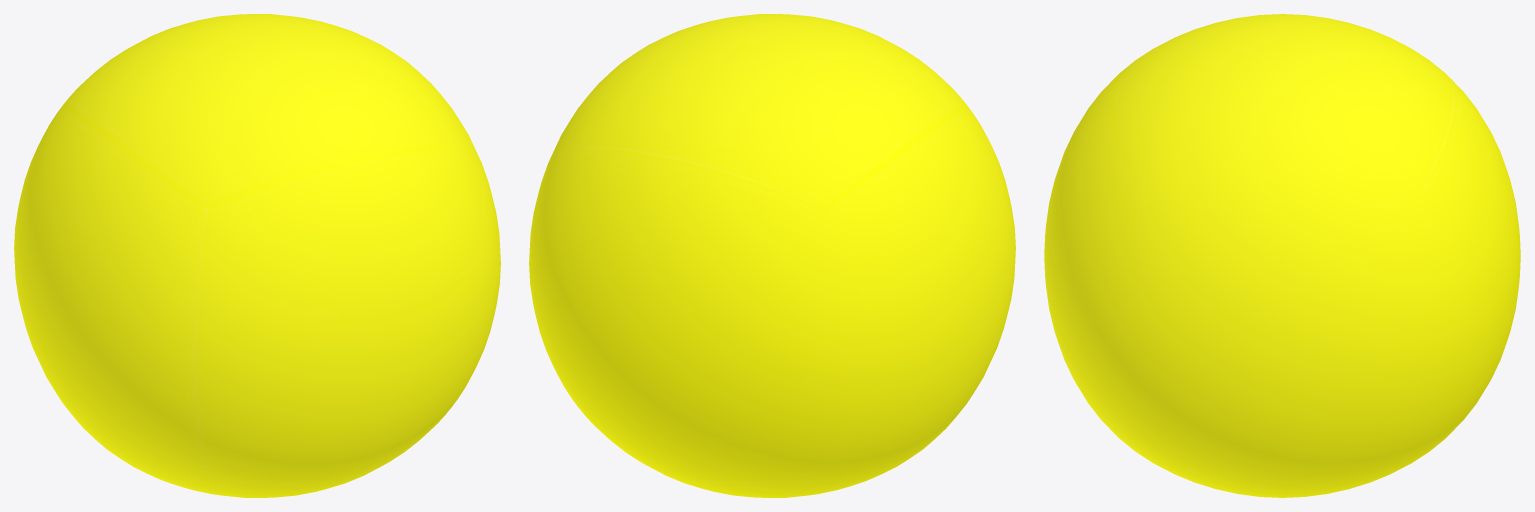
Rendered from sun.gltf.
3 views of the same model, side by side, from view 1: azimuth 30°, elevation 25°; view 2: azimuth 150°, elevation 25°; view 3: azimuth 270°, elevation 25° (orthographic).
Visible parts, largest first — view 1: Cube; view 2: Cube; view 3: Cube.
Boxes of the visible parts, x1,y1,x2,y2 form: Cube: (14,14,500,497); Cube: (529,14,1015,497); Cube: (1044,14,1520,497).
Size of the model in its own units: 1.19 by 1.19 by 1.19.
Materials: 1 (1 with a texture image).
